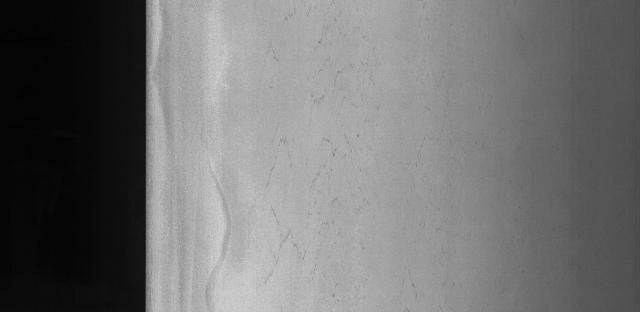silk_spot: (255, 8, 377, 290)
